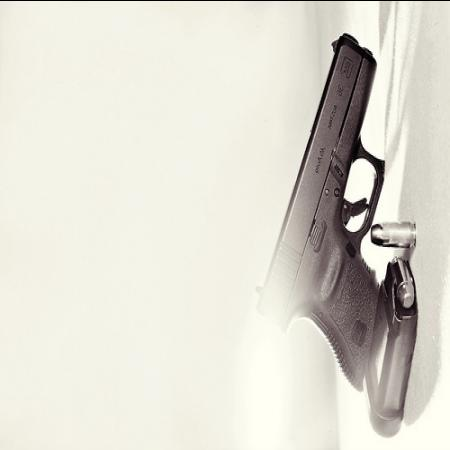Pistol: (253, 13, 386, 390)
